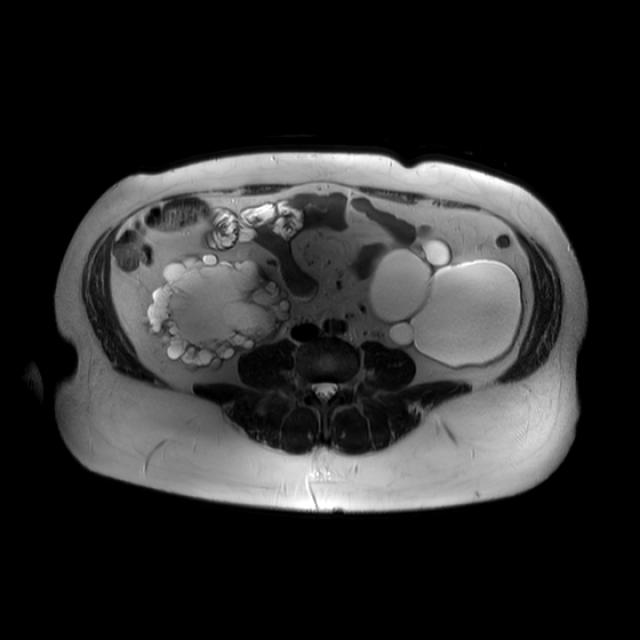sag: (147, 252, 293, 368)
sol: (372, 237, 523, 368)
